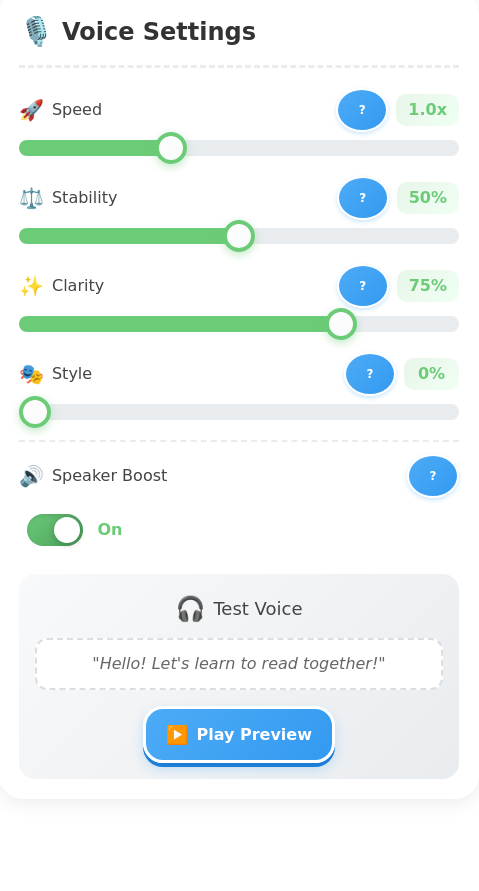
it: VoiceParameterSliders › tooltips › shows tooltip when info button is clicked
Click the button named "info about" at (362, 110), box [336,88,388,132]
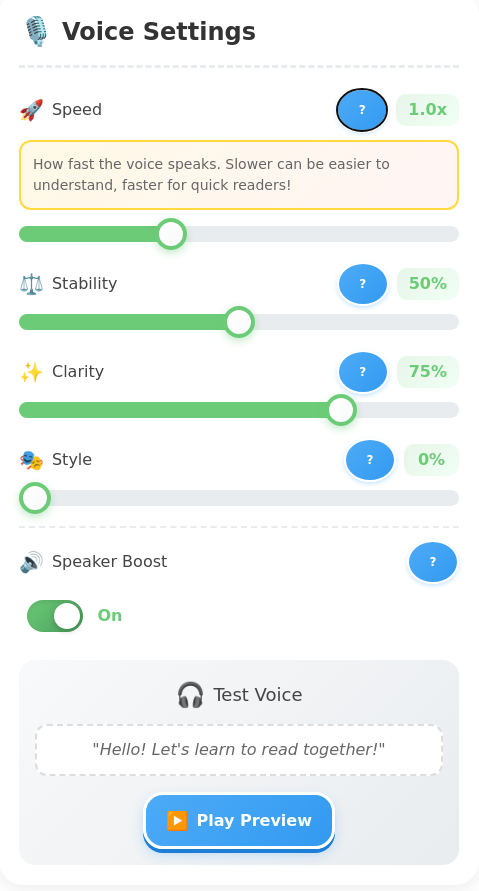
Result: the text "How fast the voice speaks" is shown at [33,156,390,193]
